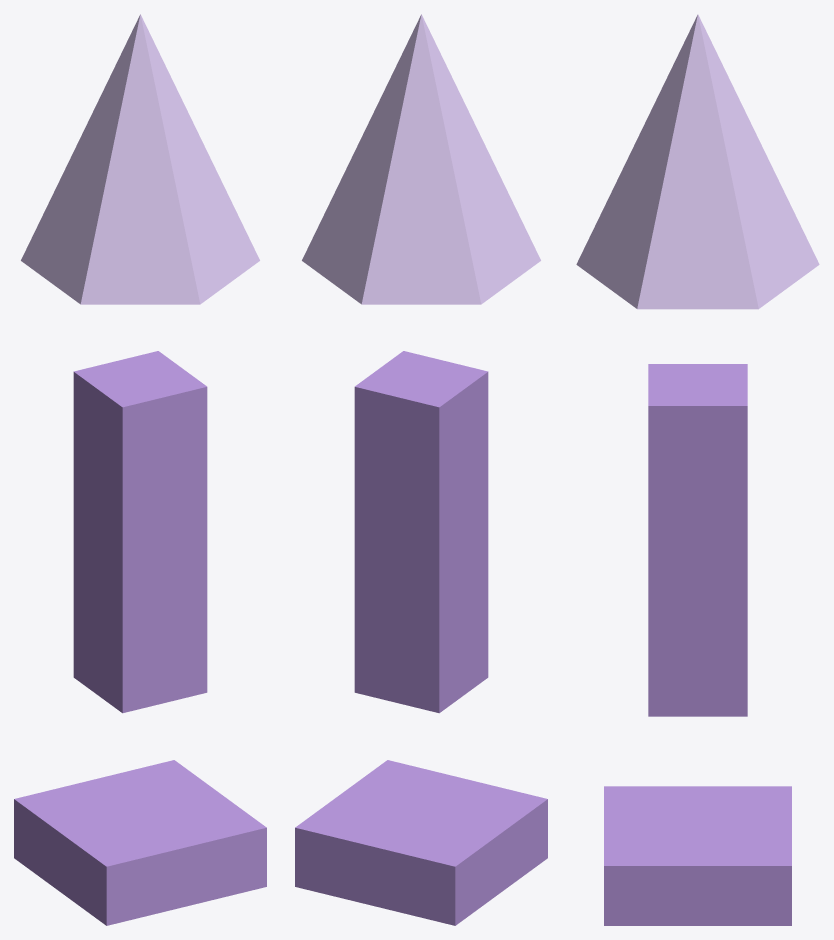
Rendered from rune.glb.
3 views of the same model, side by side, from view 1: azimuth 30°, elevation 25°; view 2: azimuth 150°, elevation 25°; view 3: azimuth 270°, elevation 25° (orthographic).
Visible parts, largest first — view 1: rune; view 2: rune; view 3: rune.
Part boxes in pixels (box(x1,y1,x2,y2)): rune: box(14, 14, 266, 925); rune: box(295, 14, 547, 925); rune: box(576, 14, 819, 925).
Bounding box in the file's own units: 0.438 × 2 × 0.5057.
